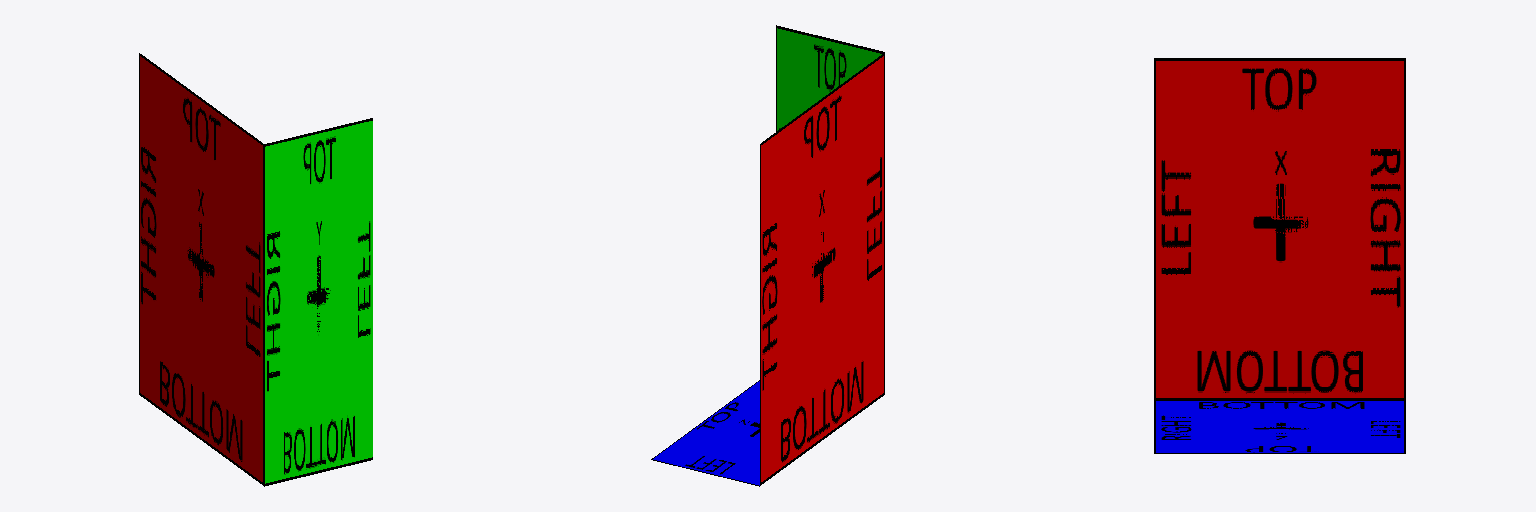
3 views of the same model, side by side, from view 1: azimuth 30°, elevation 25°; view 2: azimuth 150°, elevation 25°; view 3: azimuth 270°, elevation 25° (orthographic).
Parts seen in each view (by area): view 1: Cube; view 2: Cube; view 3: Cube.
Boxes of the visible parts, <box> form: Cube: <box>139,53,372,486</box>; Cube: <box>651,25,884,486</box>; Cube: <box>1154,58,1405,453</box>.
Bounding box in the file's own units: 1 × 3 × 2.
Materials: 1 (1 with a texture image).